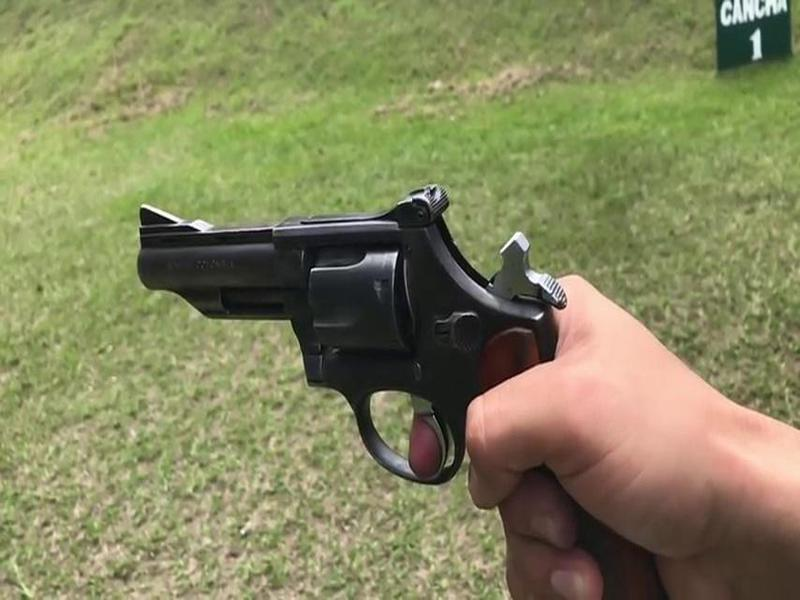Revolver: (130, 169, 580, 504)
